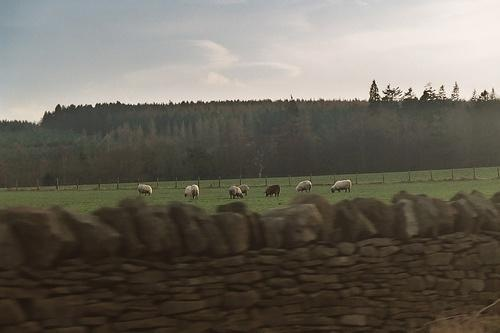sheep: (331, 178, 358, 197), (226, 185, 250, 201), (183, 184, 203, 201), (266, 183, 284, 200), (297, 180, 316, 195), (137, 183, 157, 196)
